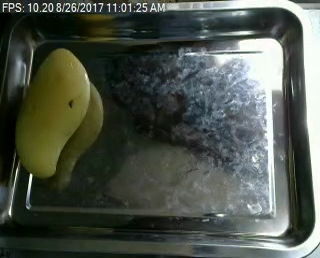Mango: (11, 49, 90, 183)
